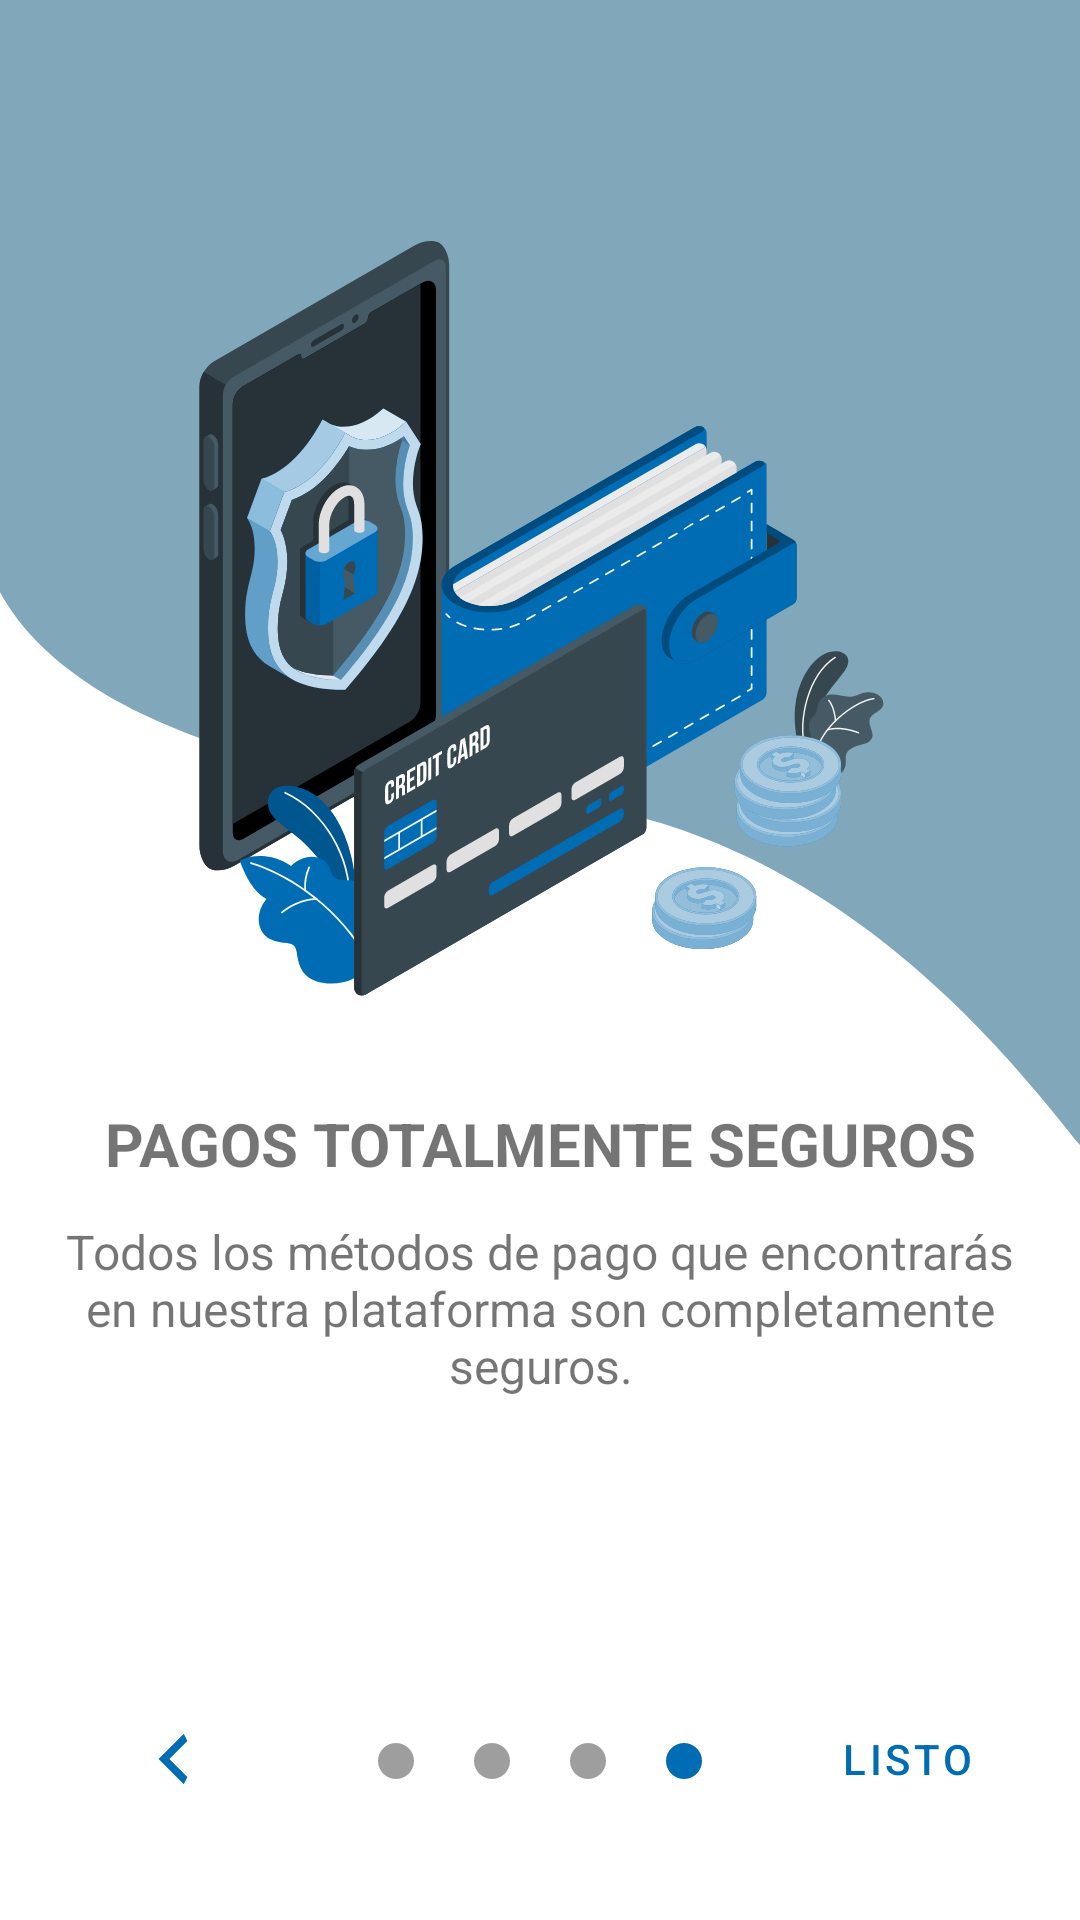

Where to tap for icons on this 1080*1920 app screen, as [x,y]:
left: [173,1759]
